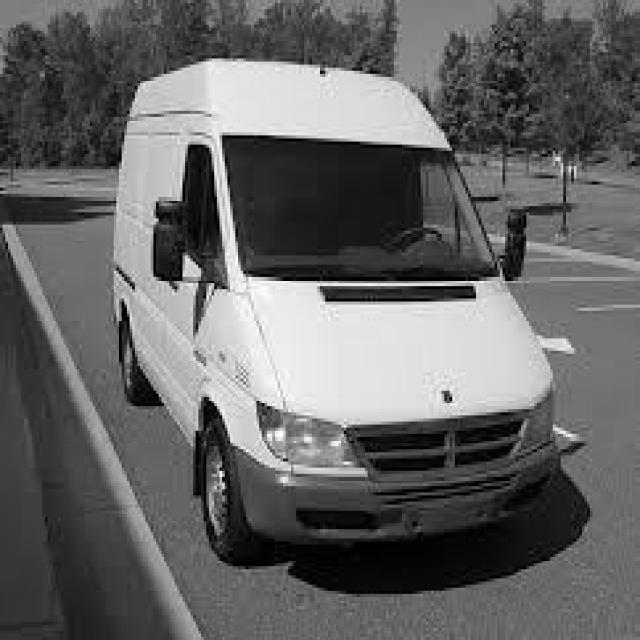car: (109, 55, 560, 563)
